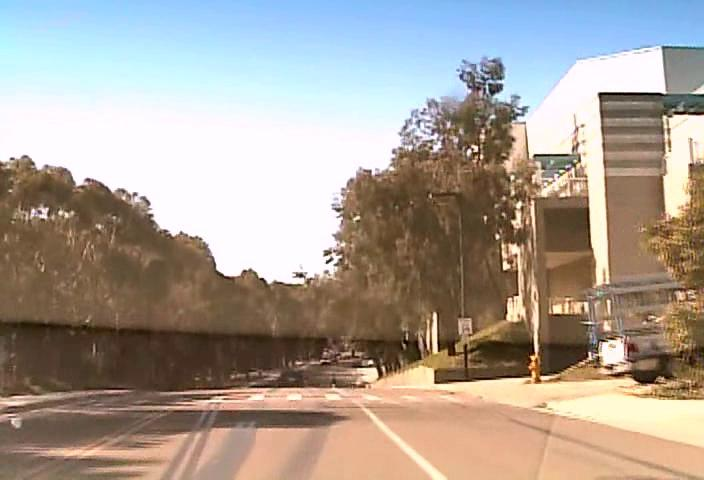speedLimitUrdbl: (457, 317, 473, 335)
